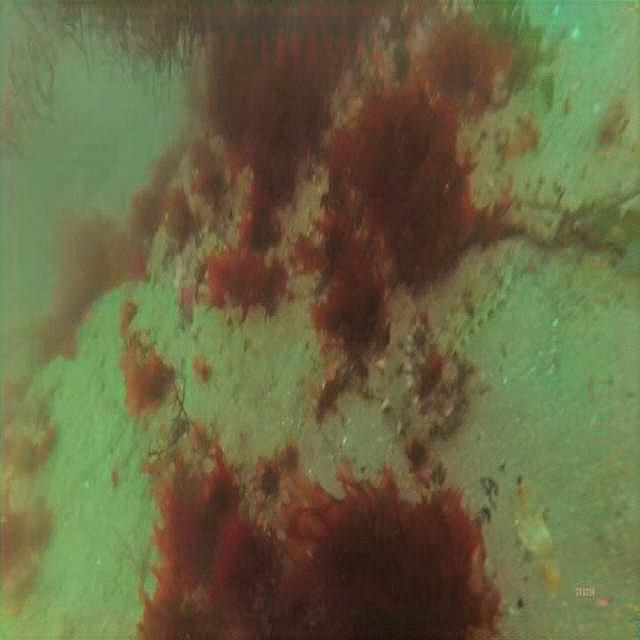holothurian: (428, 261, 512, 357), (401, 311, 464, 438)
